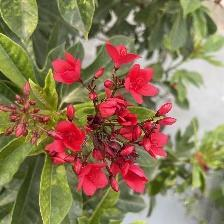jatropha: (127, 63, 165, 106), (50, 118, 87, 157)
